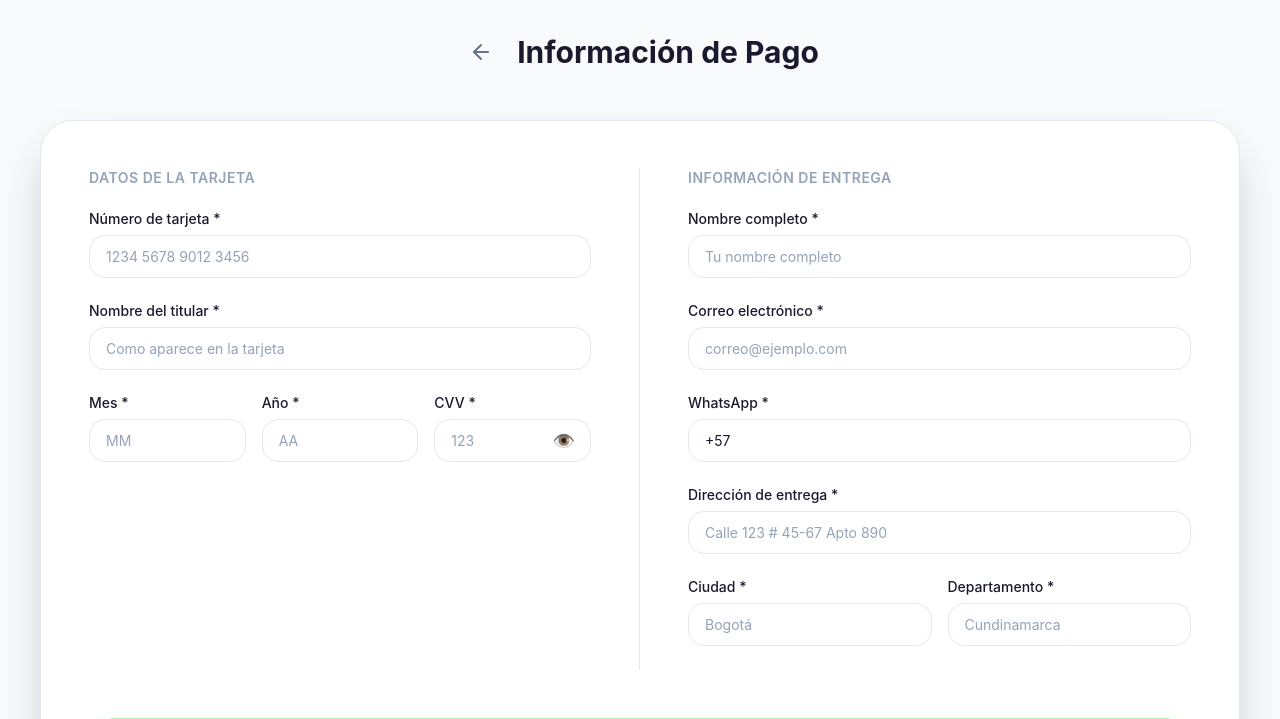
PaymentModal Component › should format card number on change
The width and height of the screenshot is (1280, 719).
Step 1. Type "4111111111111111" into the field with placeholder "1234 5678 9012 3456" → (340, 256), box [89,235,591,278]
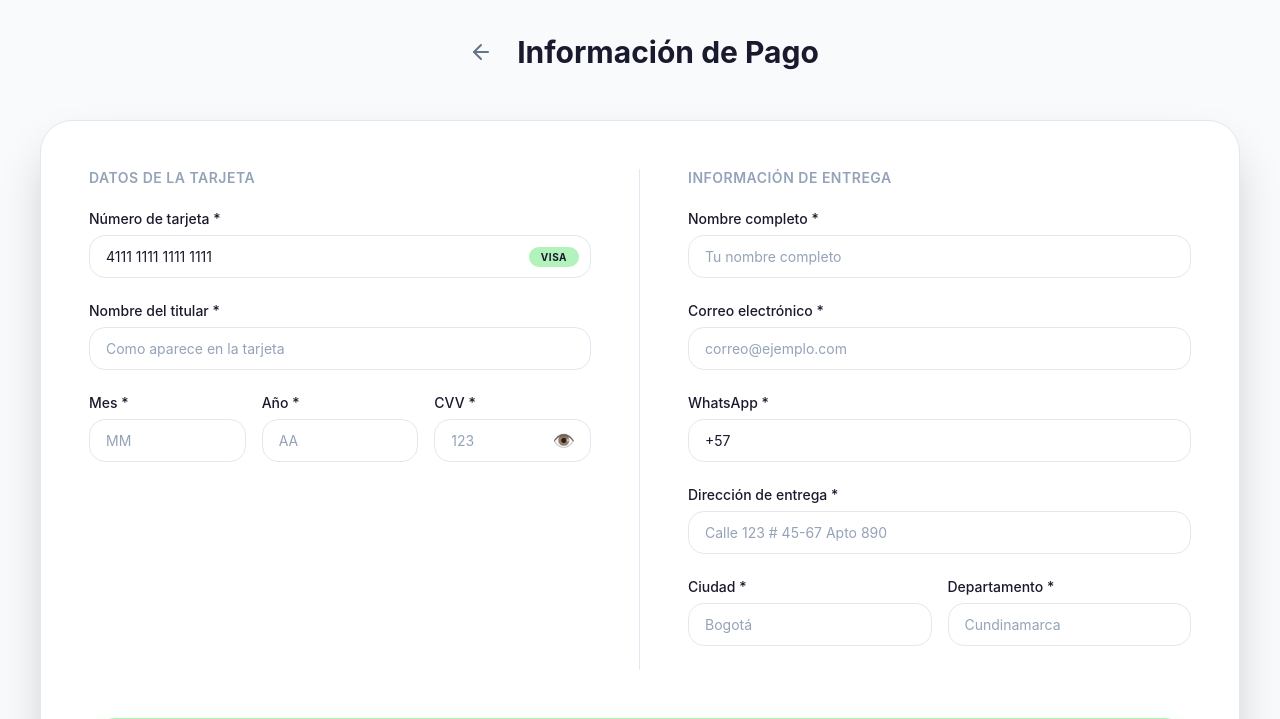
Now the field with placeholder "1234 5678 9012 3456" next to "VISA" holds "4111 1111 1111 1111", box [89,235,591,278]
